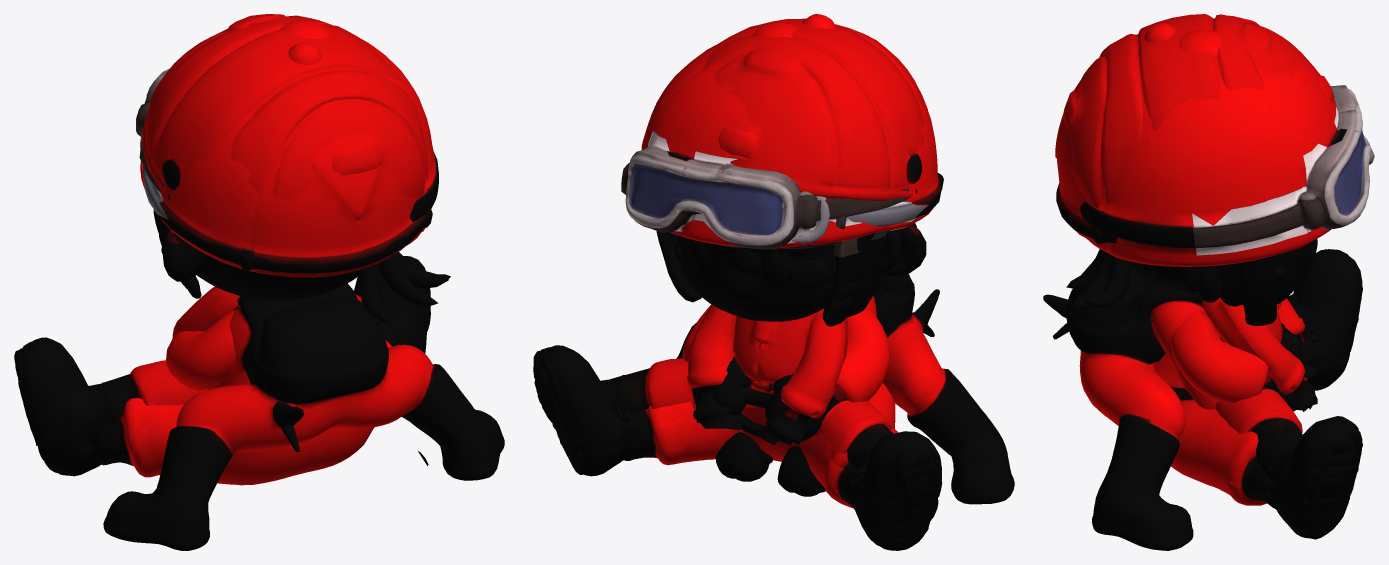
The model's file is jockeys.glb.
3 views of the same model, side by side, from view 1: azimuth 30°, elevation 25°; view 2: azimuth 150°, elevation 25°; view 3: azimuth 270°, elevation 25° (orthographic). The views are drawn at different scales.
Visible parts, largest first — view 1: jockey-girl, jockey-veteran, jockey-boy, jockey-boy-goggles; view 2: jockey-girl, jockey-boy, jockey-veteran, jockey-boy-goggles, jockey-veteran-goggles; view 3: jockey-boy, jockey-girl, jockey-veteran, jockey-boy-goggles.
Part boxes in pixels (x1,y1,x2,y2): jockey-girl: (14,14,450,465); jockey-veteran: (17,42,432,485); jockey-boy: (103,20,504,550); jockey-boy-goggles: (136,68,169,194); jockey-girl: (533,18,942,525); jockey-boy: (641,22,1014,504); jockey-veteran: (541,14,943,550); jockey-boy-goggles: (621,131,911,257); jockey-veteran-goggles: (791,196,927,244); jockey-boy: (1043,29,1347,550); jockey-girl: (1062,14,1355,521); jockey-veteran: (1055,23,1362,539); jockey-boy-goggles: (1192,85,1374,255).
Size of the model in its own units: 0.9373 by 0.9832 by 0.6775.
3 materials, 3 textured.
